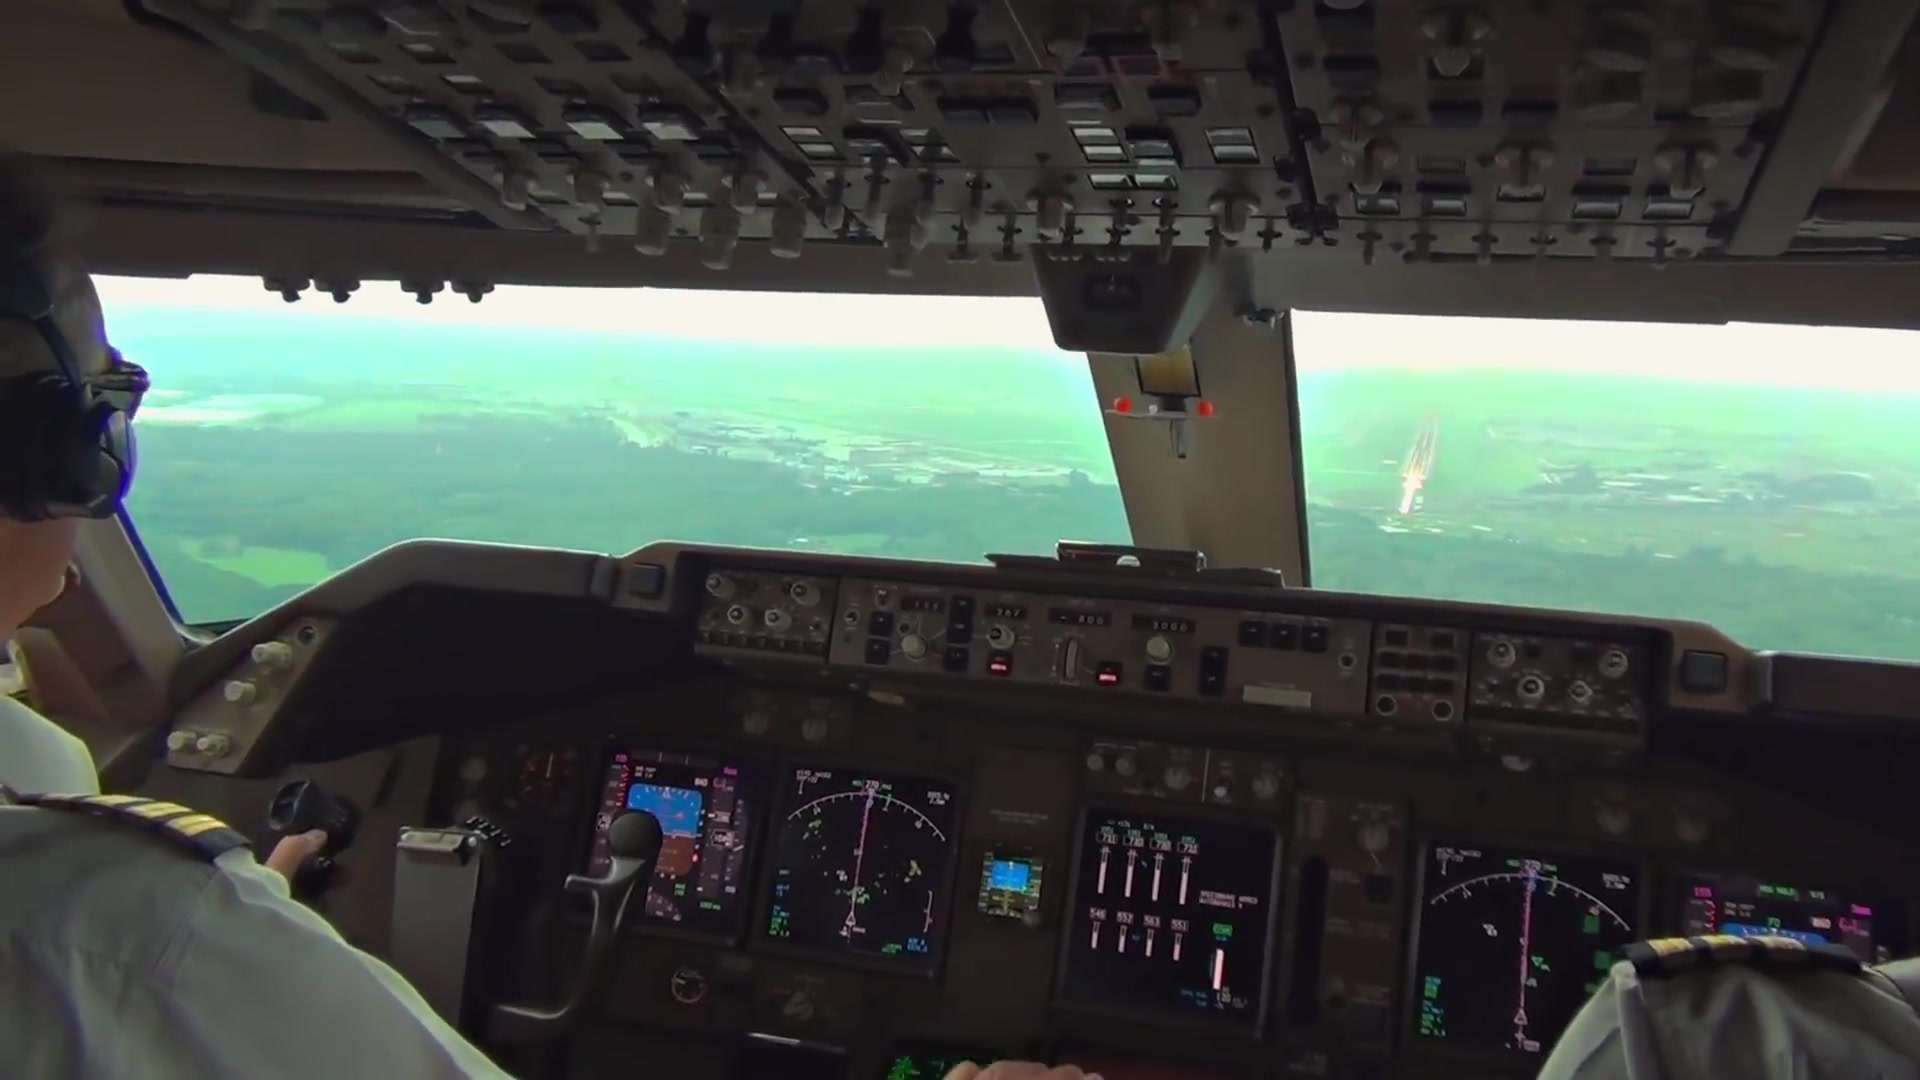runway: (1400, 407, 1443, 479)
